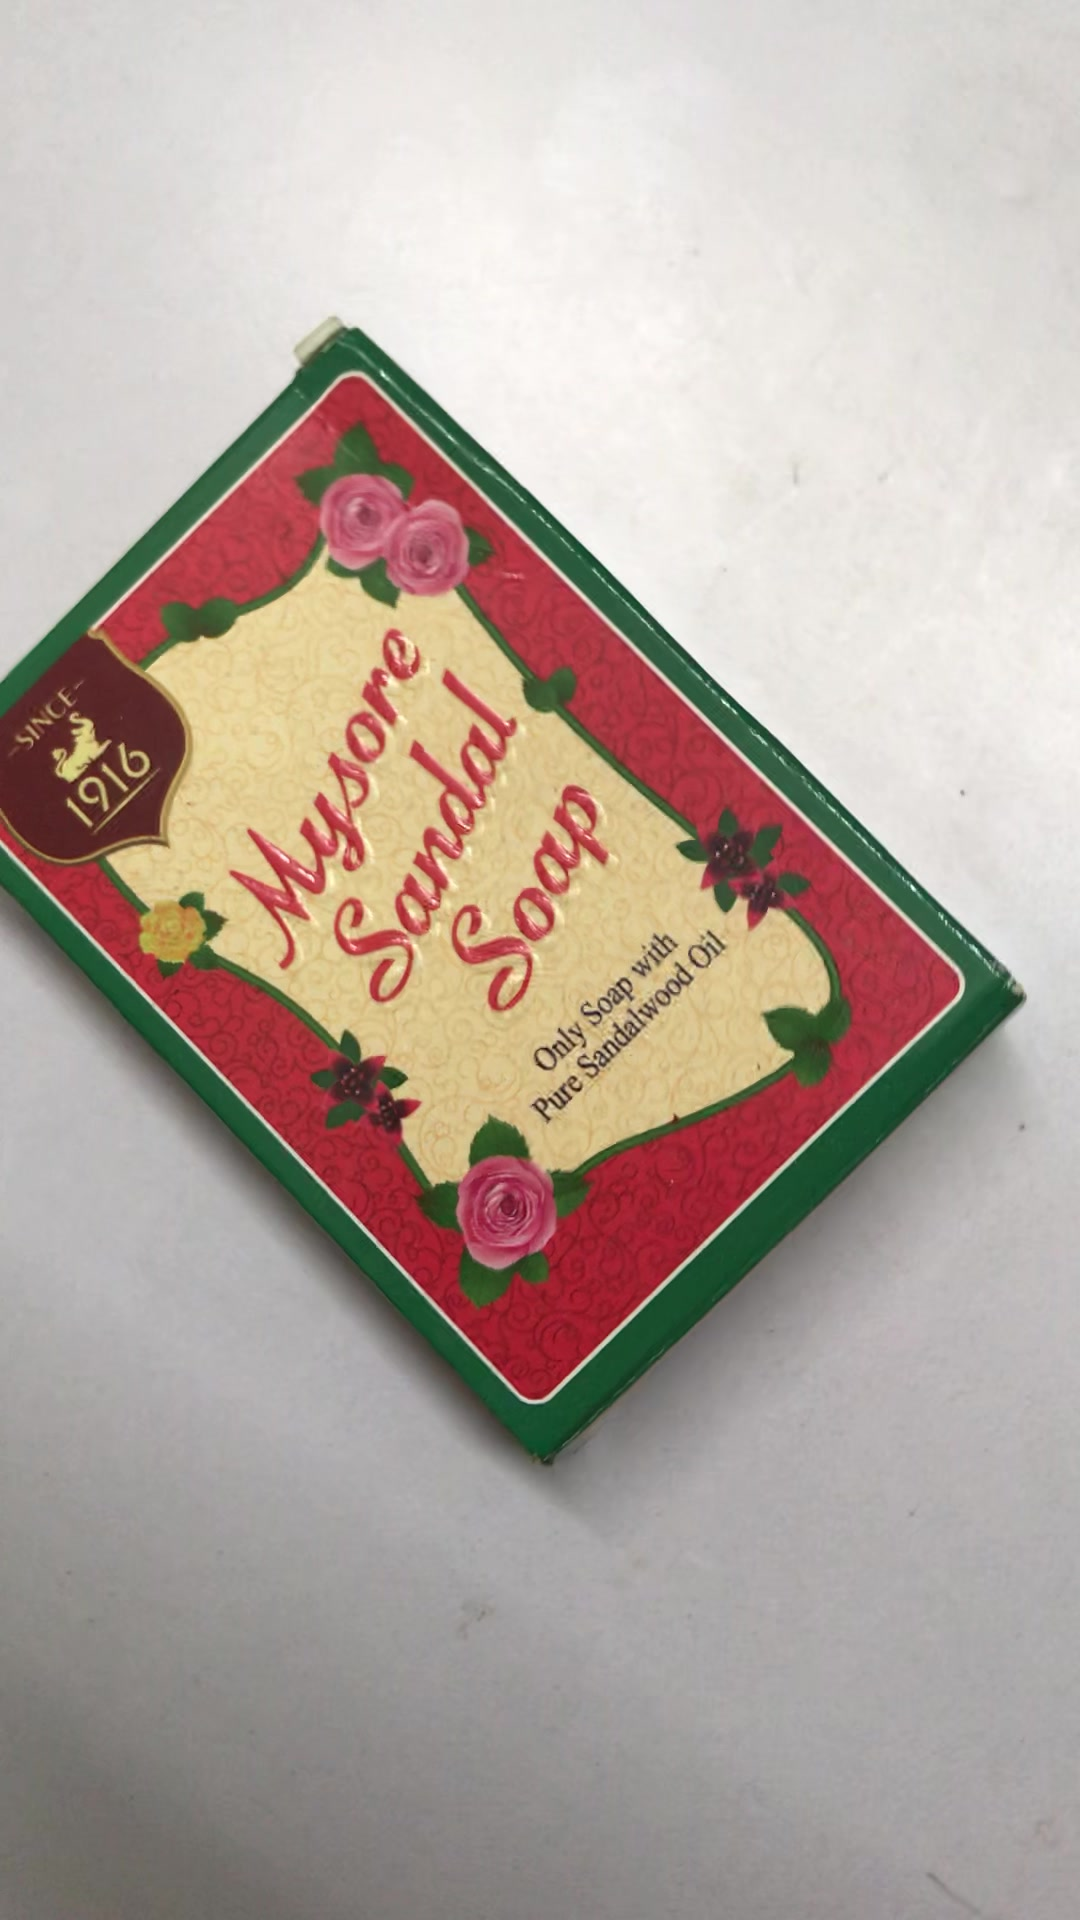mysore sandal soap: (1, 331, 1030, 1469)
